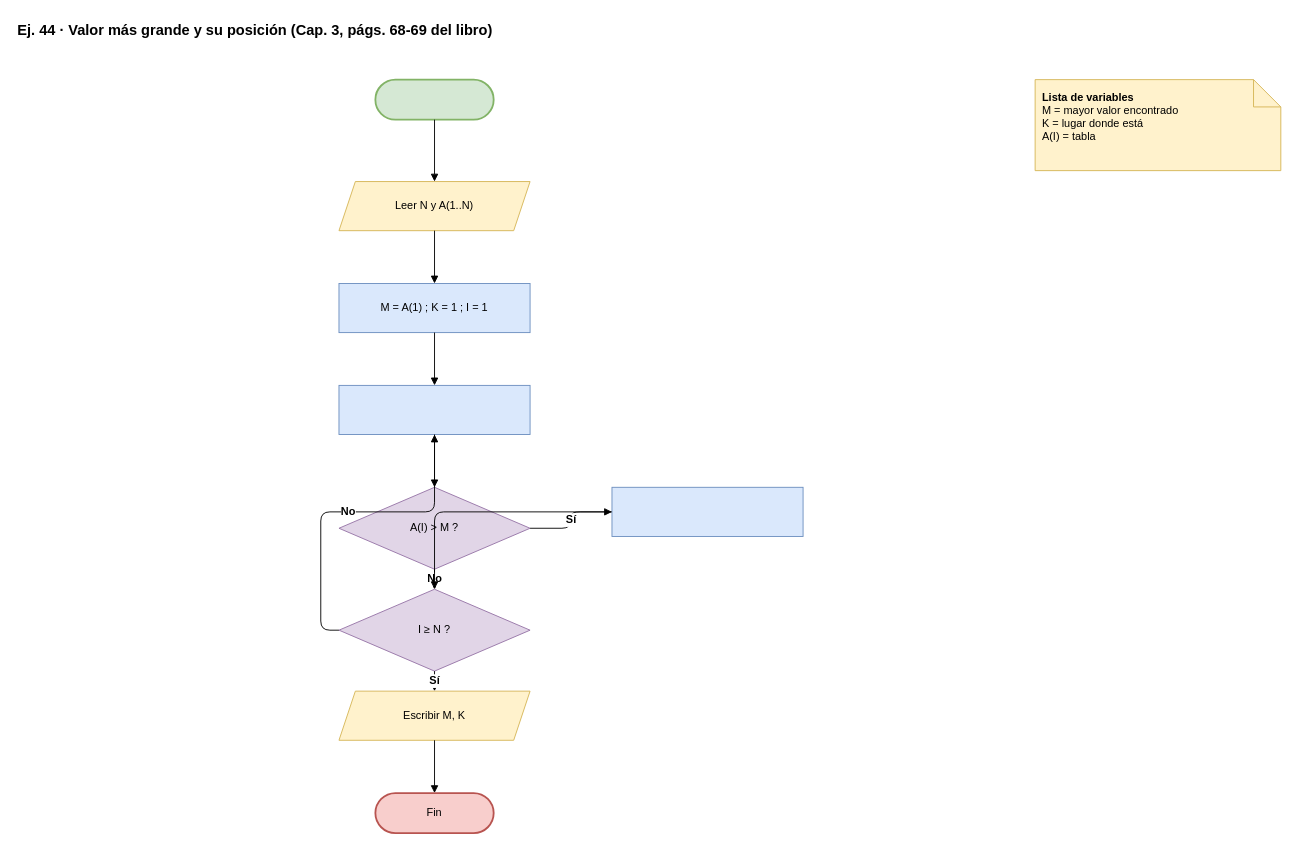
The diagram is 1297 pixels wide and 849 high, and some of its shapes have lost their labels. Here are the shapes that lost their labels. From the top down, the centre of each, then its label:
At (434,99): "Inicio".
At (434,409): "I = I + 1".
At (707,511): "M = A(I) ; K = I".
